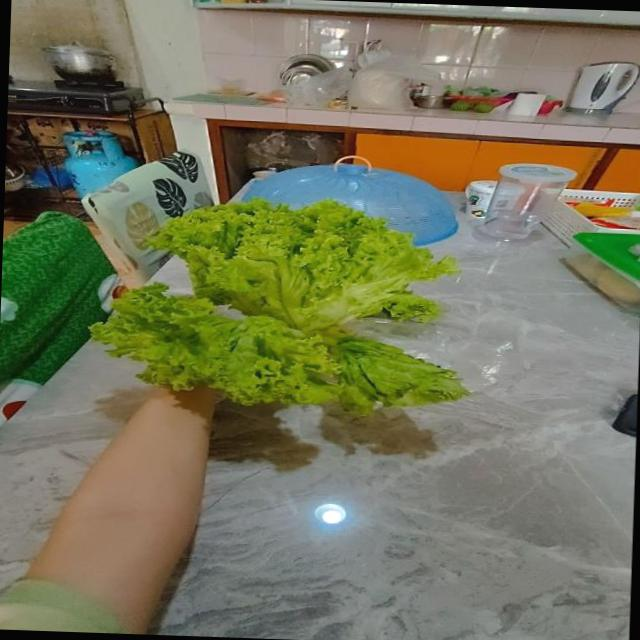Lettuce-Ready-to-Harvest: (148, 199, 456, 332)
